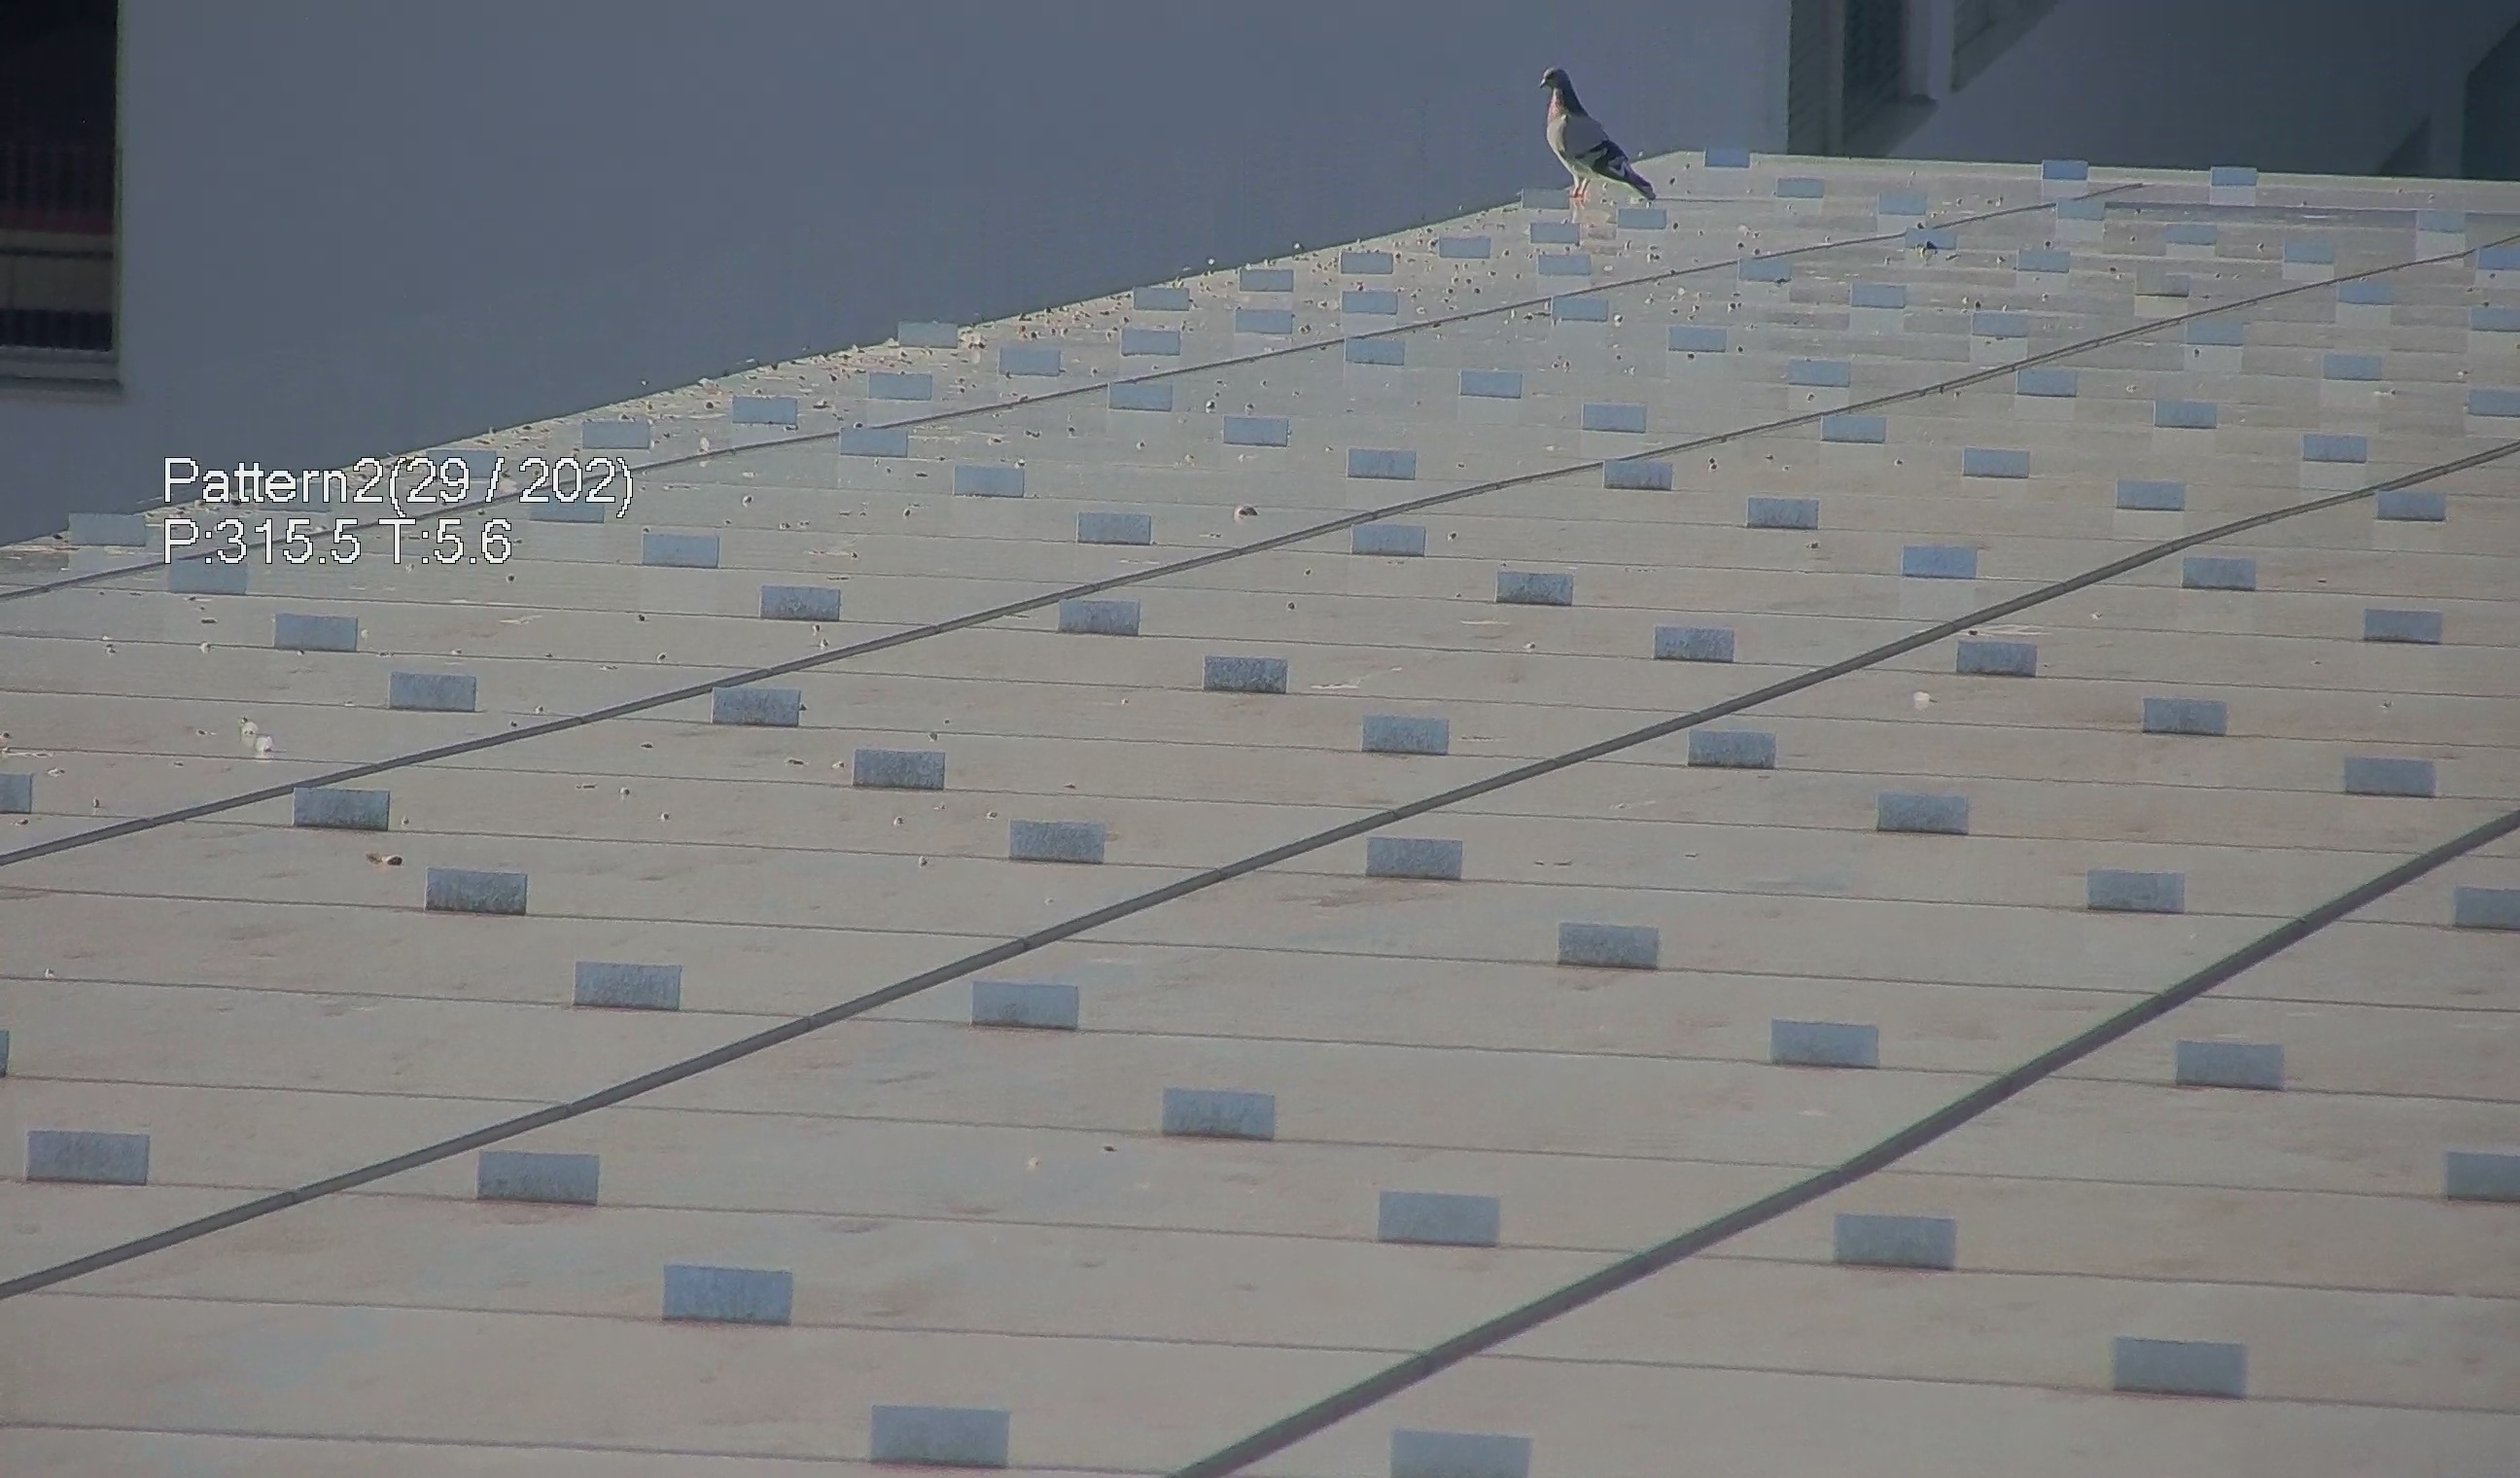Pigeon: (1533, 58, 1669, 211)
